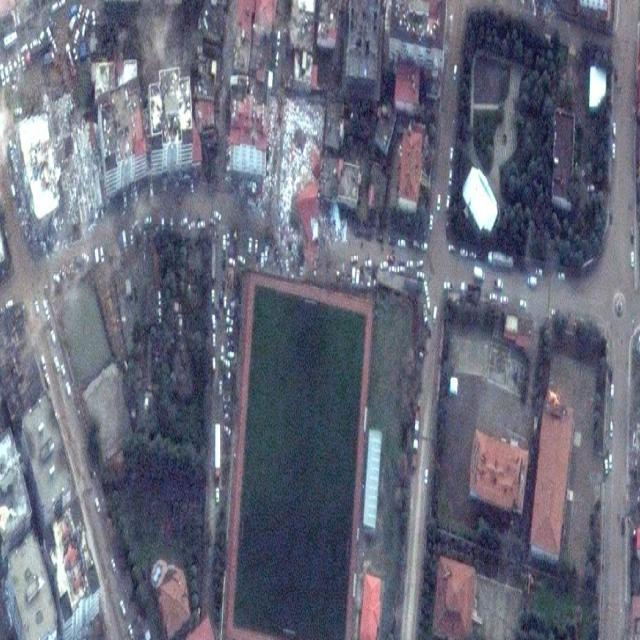Rubble: (58, 103, 102, 236), (269, 94, 324, 190), (274, 190, 294, 254)
